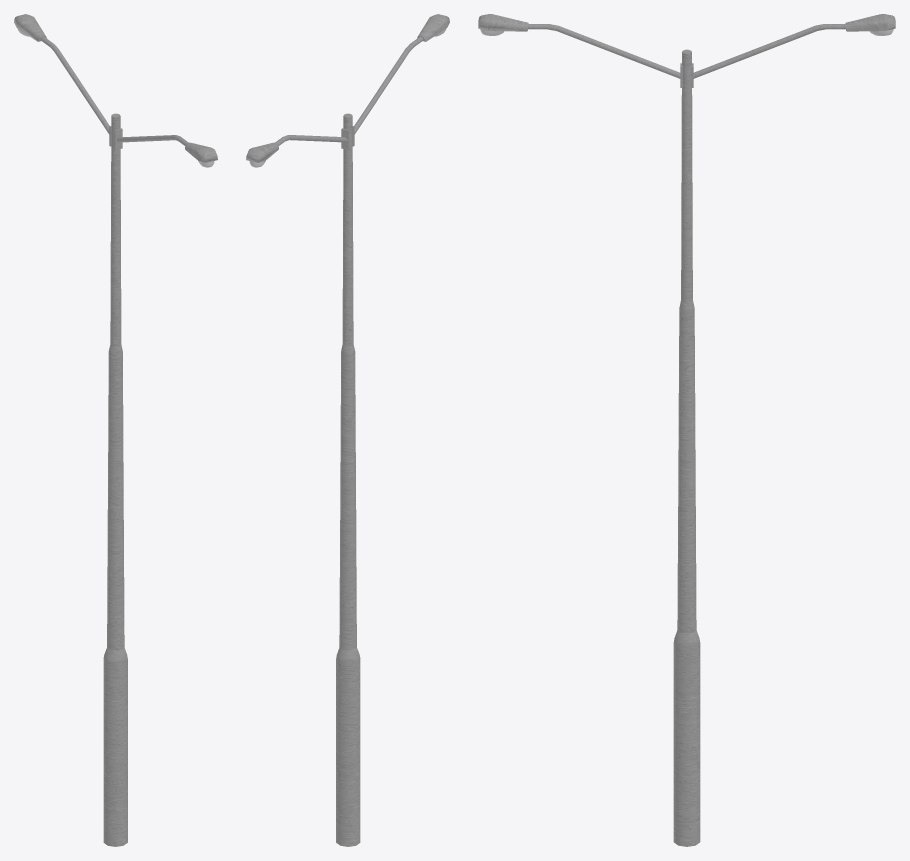
Rendered from drive-lamp.glb.
The picture shows the model from 3 angles, left to right: view 1: azimuth 30°, elevation 25°; view 2: azimuth 150°, elevation 25°; view 3: azimuth 270°, elevation 25°; orthographic projection. The views are drawn at different scales.
Visible parts, largest first — view 1: defaultMaterial; view 2: defaultMaterial; view 3: defaultMaterial.
Boxes of the visible parts, left/top/right/bottom form: defaultMaterial: left=14, top=14, right=217, bottom=846; defaultMaterial: left=246, top=14, right=449, bottom=846; defaultMaterial: left=478, top=14, right=895, bottom=846.
Bounding box in the file's own units: 0.5971 × 20.9 × 9.58.
1 material, 1 textured.
